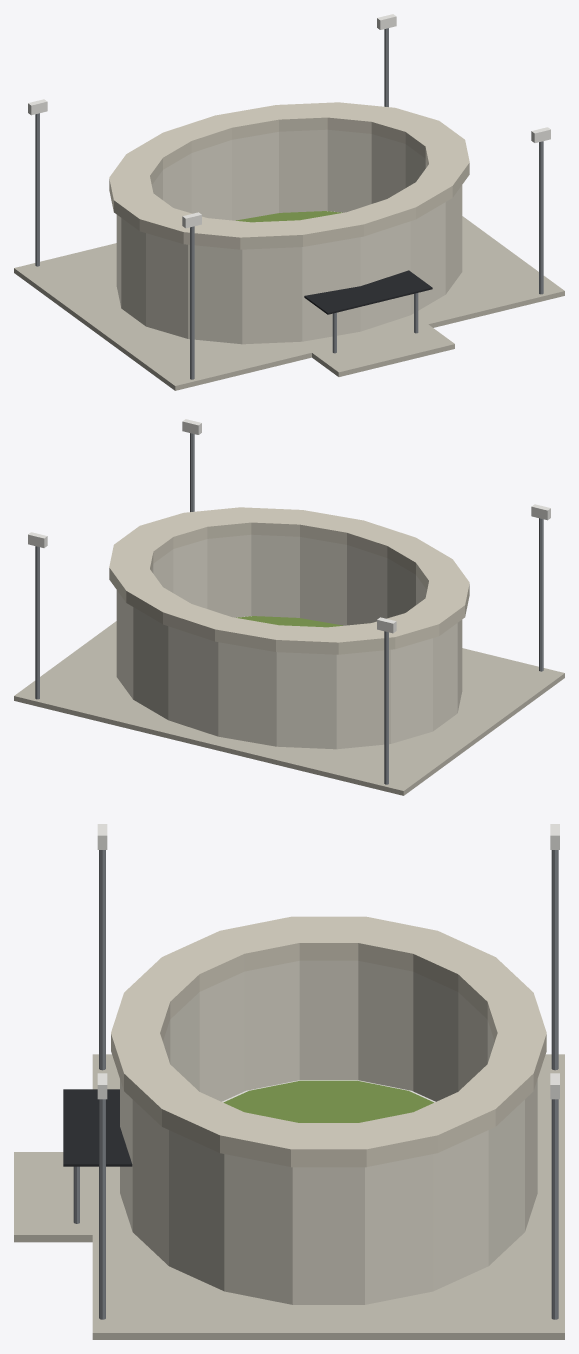
Rendered from building.stadium.glb.
3 views of the same model, one above another, from view 1: azimuth 30°, elevation 25°; view 2: azimuth 150°, elevation 25°; view 3: azimuth 270°, elevation 25° (orthographic). The views are drawn at different scales.
Visible parts, largest first — view 1: building.stadium; view 2: building.stadium; view 3: building.stadium.
Part boxes in pixels (<box>): building.stadium: <box>14,14,564,390</box>; building.stadium: <box>14,419,564,795</box>; building.stadium: <box>14,824,564,1339</box>.
Bounding box in the file's own units: 33.5 × 13.8 × 28.
